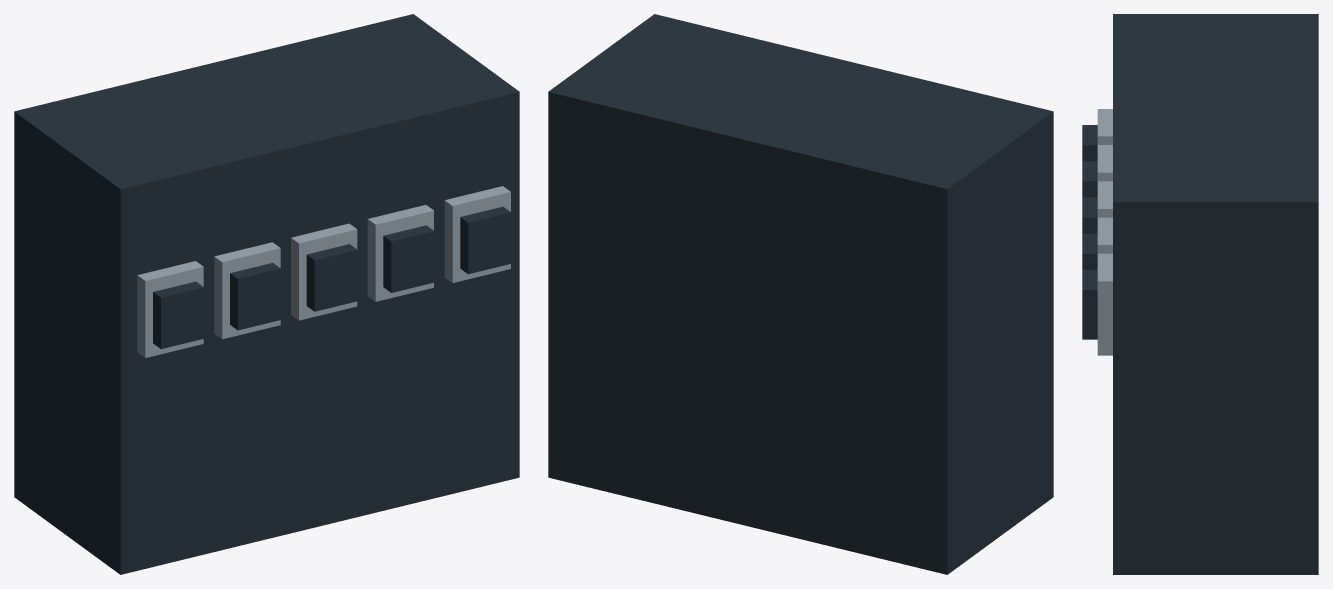
3 renders of one model, left to right at view 1: azimuth 30°, elevation 25°; view 2: azimuth 150°, elevation 25°; view 3: azimuth 270°, elevation 25°, orthographic. The views are drawn at different scales.
Visible parts, largest first — view 1: 总线适配器; view 2: 总线适配器; view 3: 总线适配器.
Part boxes in pixels (bbox=[...]): 总线适配器: bbox=[14, 14, 519, 574]; 总线适配器: bbox=[548, 14, 1053, 574]; 总线适配器: bbox=[1082, 14, 1318, 574].
Bounding box in the file's own units: 0.65 × 0.6 × 0.345.
